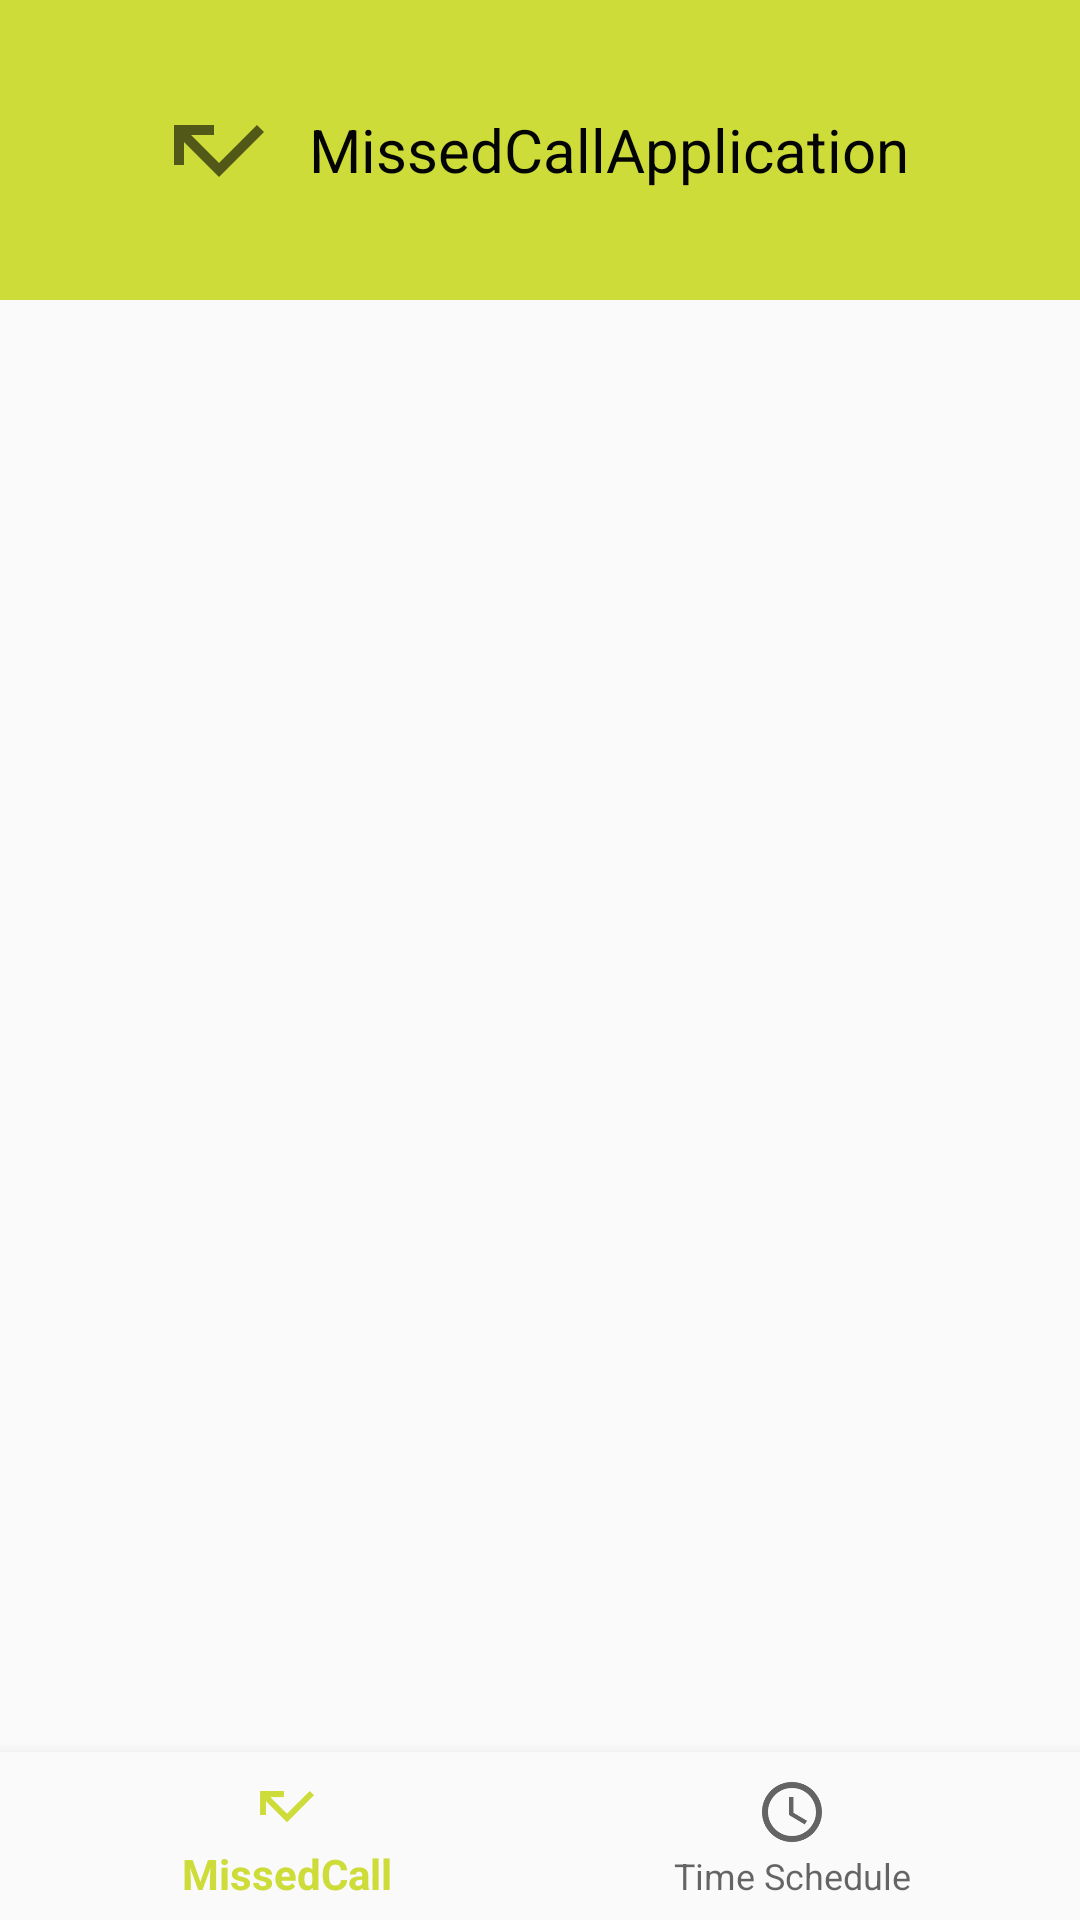

Screen size 1080×1920. Icon name, then its center in pixels as point (x, y):
call missed: point (219, 151)
